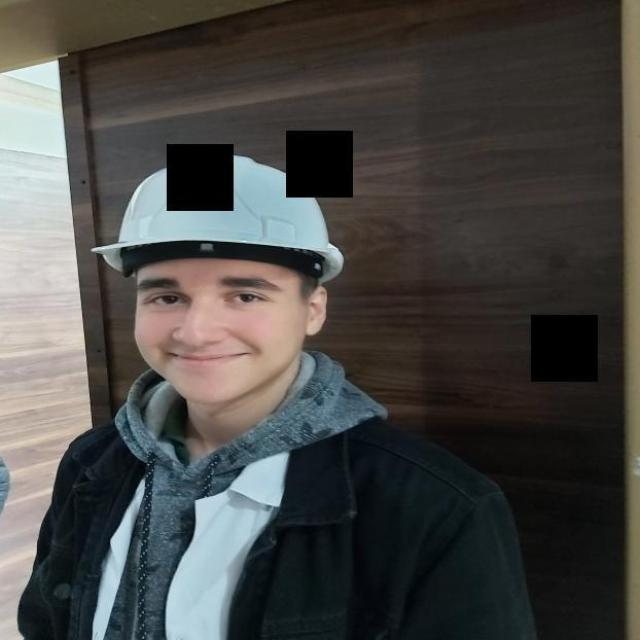helmet: (90, 152, 344, 284)
